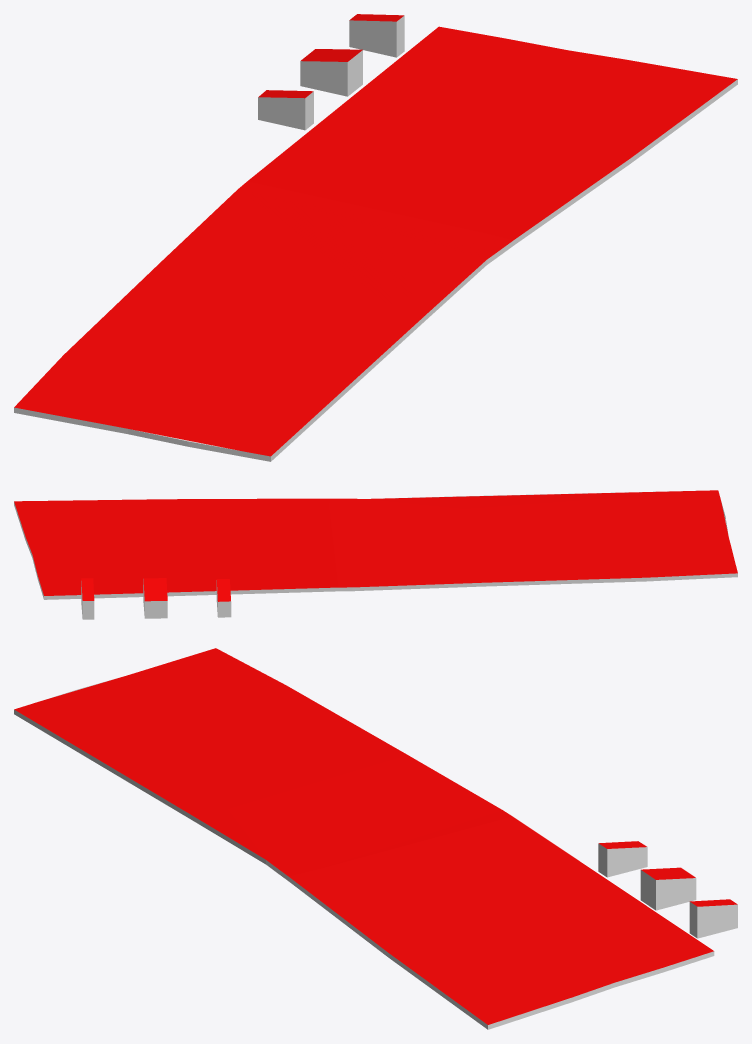
The picture shows the model from 3 angles, top to bottom: view 1: azimuth 30°, elevation 25°; view 2: azimuth 150°, elevation 25°; view 3: azimuth 270°, elevation 25°; orthographic projection. The views are drawn at different scales.
Size of the model in its own units: 169 by 6.65 by 137.
